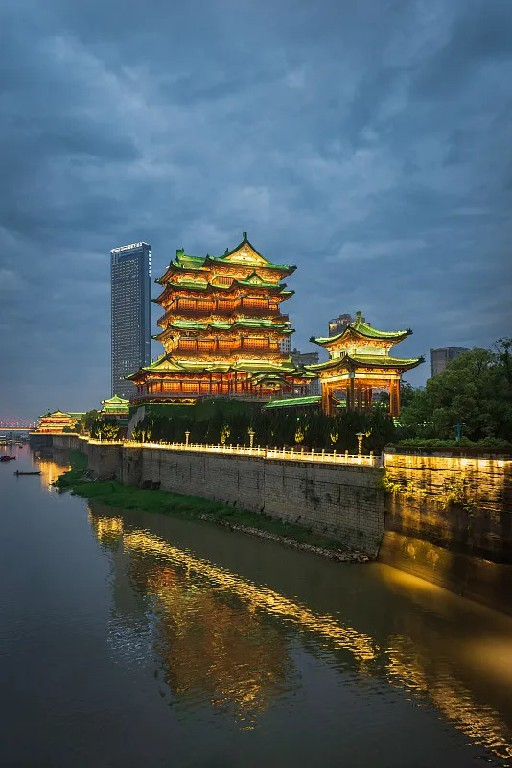Teng: (127, 231, 320, 401)
